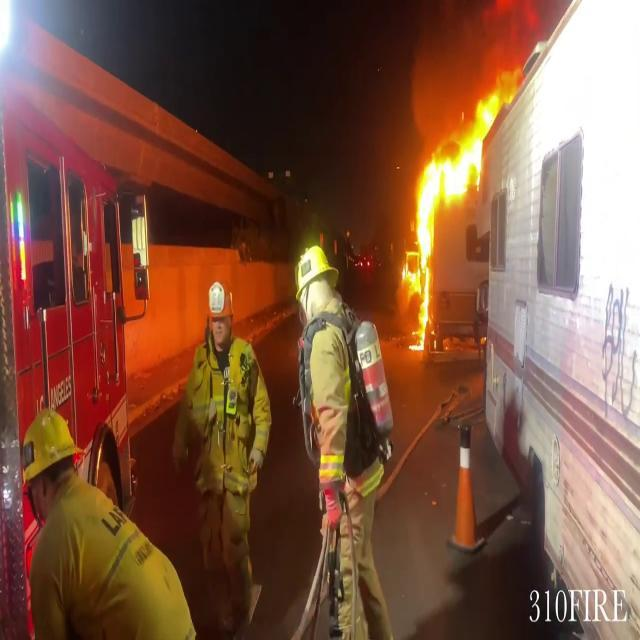Fire: (423, 84, 504, 202), (409, 161, 452, 347)
